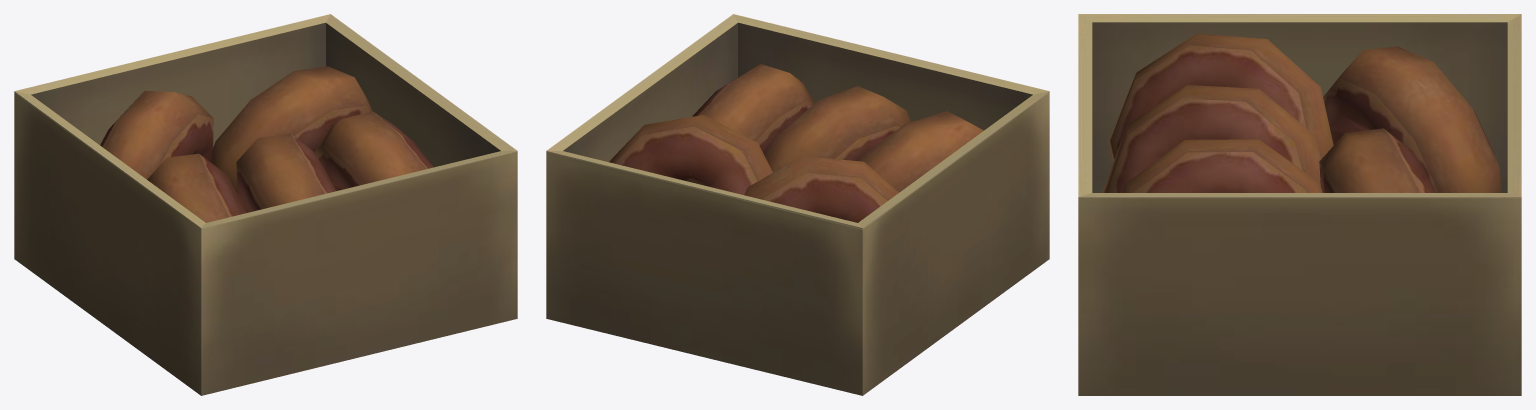
File: DoughnutBox.FBX
3 renders of one model, left to right at view 1: azimuth 30°, elevation 25°; view 2: azimuth 150°, elevation 25°; view 3: azimuth 270°, elevation 25°, orthographic. The views are drawn at different scales.
Parts seen in each view (by area): view 1: Box155; view 2: Box155; view 3: Box155.
Part boxes in pixels (bbox=[...]): Box155: bbox=[14, 14, 517, 395]; Box155: bbox=[546, 14, 1049, 395]; Box155: bbox=[1078, 14, 1521, 395].
Bounding box in the file's own units: 74.34 × 39.62 × 76.1.
1 material, 1 textured.
